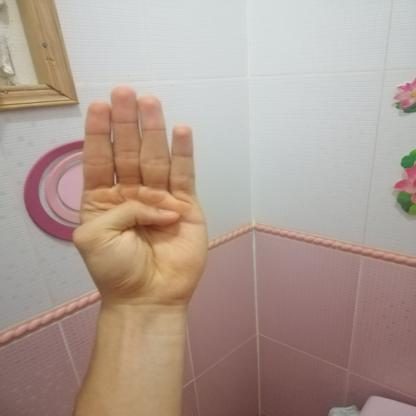KAAF: (48, 77, 239, 320)
